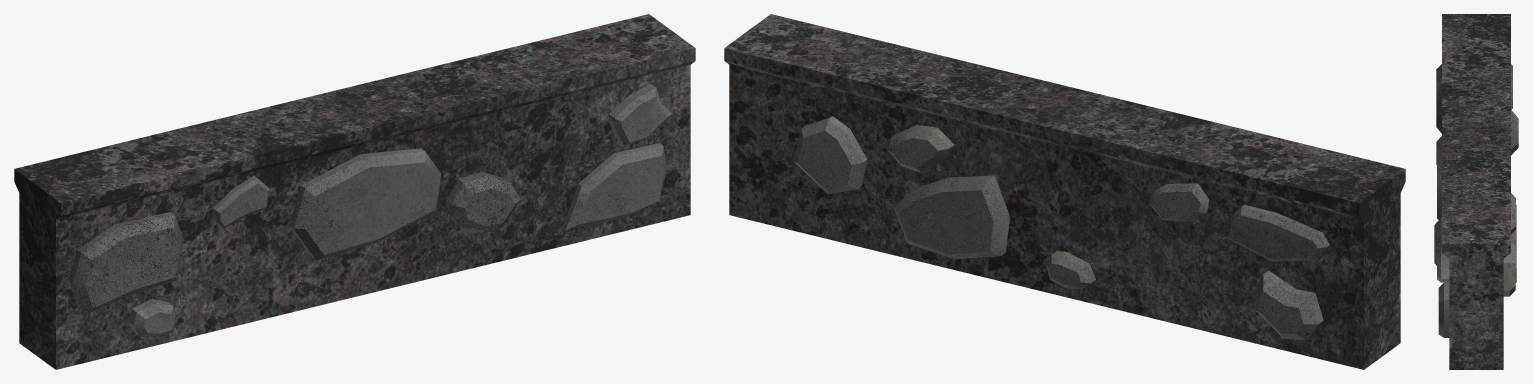
The model's file is Wall_short3.fbx.
The picture shows the model from 3 angles, left to right: view 1: azimuth 30°, elevation 25°; view 2: azimuth 150°, elevation 25°; view 3: azimuth 270°, elevation 25°; orthographic projection. The views are drawn at different scales.
Visible parts, largest first — view 1: Wall_short3; view 2: Wall_short3; view 3: Wall_short3.
Part boxes in pixels (x1=…): Wall_short3: x1=14, y1=14, x2=695, y2=369; Wall_short3: x1=724, y1=14, x2=1405, y2=369; Wall_short3: x1=1434, y1=14, x2=1518, y2=369.
Size of the model in its own units: 3 by 0.7703 by 0.4675.
1 material, 1 textured.
